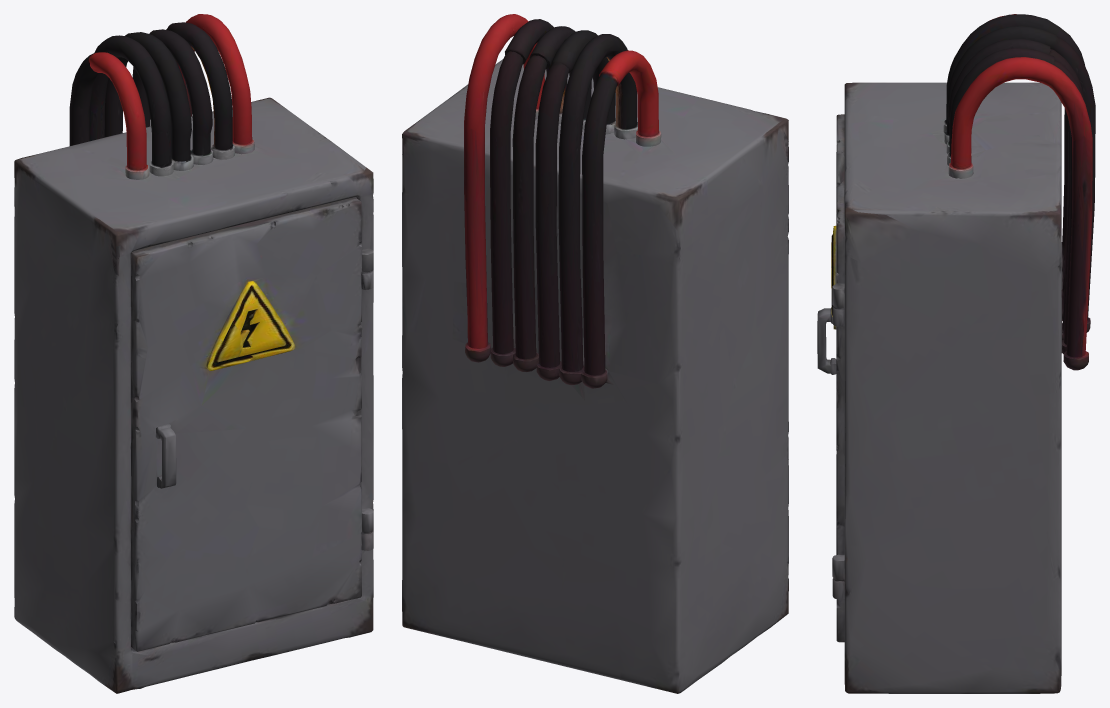
File: decor_electric_cabinet.glb
The picture shows the model from 3 angles, left to right: view 1: azimuth 30°, elevation 25°; view 2: azimuth 150°, elevation 25°; view 3: azimuth 270°, elevation 25°; orthographic projection. The views are drawn at different scales.
Parts seen in each view (by area): view 1: body, door; view 2: body; view 3: body, door.
Boxes of the visible parts, x1=… form: body: x1=14, y1=14, x2=373, y2=693; door: x1=131, y1=197, x2=360, y2=676; body: x1=402, y1=14, x2=788, y2=693; body: x1=832, y1=14, x2=1095, y2=693; door: x1=817, y1=114, x2=844, y2=607.
Size of the model in its own units: 0.6613 by 1.4 by 0.5901.
9 materials, 3 textured.
